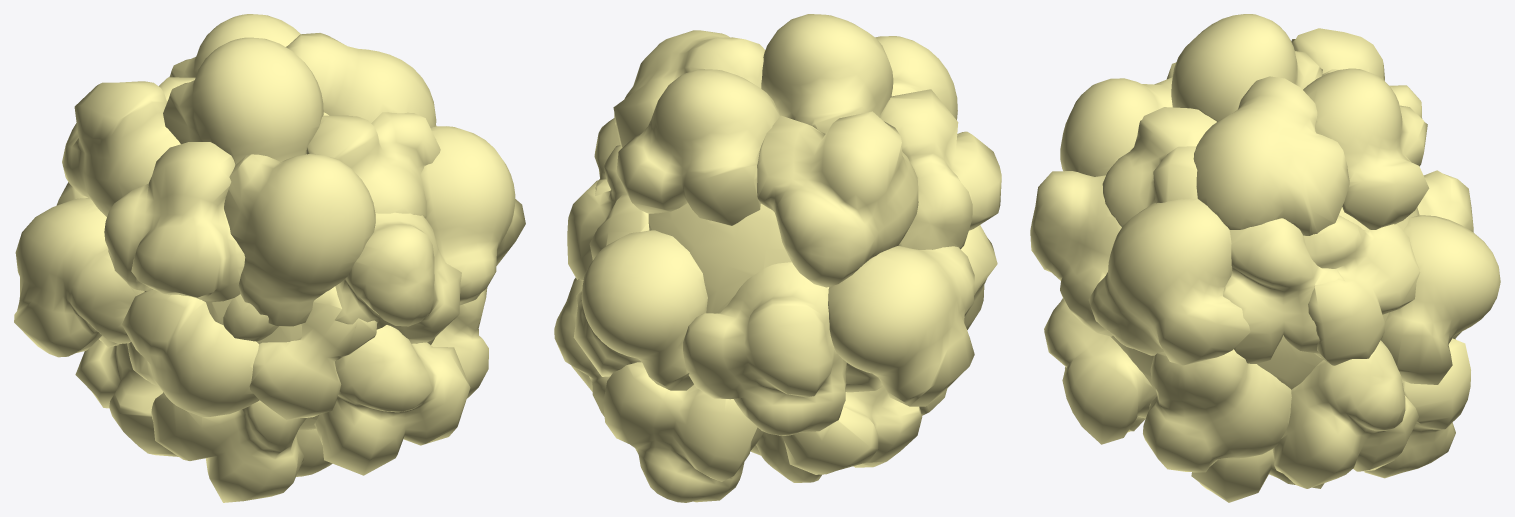
The model's file is PopcornBall.fbx.
3 renders of one model, left to right at view 1: azimuth 30°, elevation 25°; view 2: azimuth 150°, elevation 25°; view 3: azimuth 270°, elevation 25°, orthographic. The views are drawn at different scales.
Parts seen in each view (by area): view 1: popcornBall4; view 2: popcornBall4; view 3: popcornBall4.
Boxes of the visible parts, left/top/right/bottom form: popcornBall4: left=14, top=14, right=525, bottom=502; popcornBall4: left=554, top=14, right=1001, bottom=502; popcornBall4: left=1030, top=14, right=1500, bottom=502.
Bounding box in the file's own units: 52.1 × 52.41 × 51.58.
